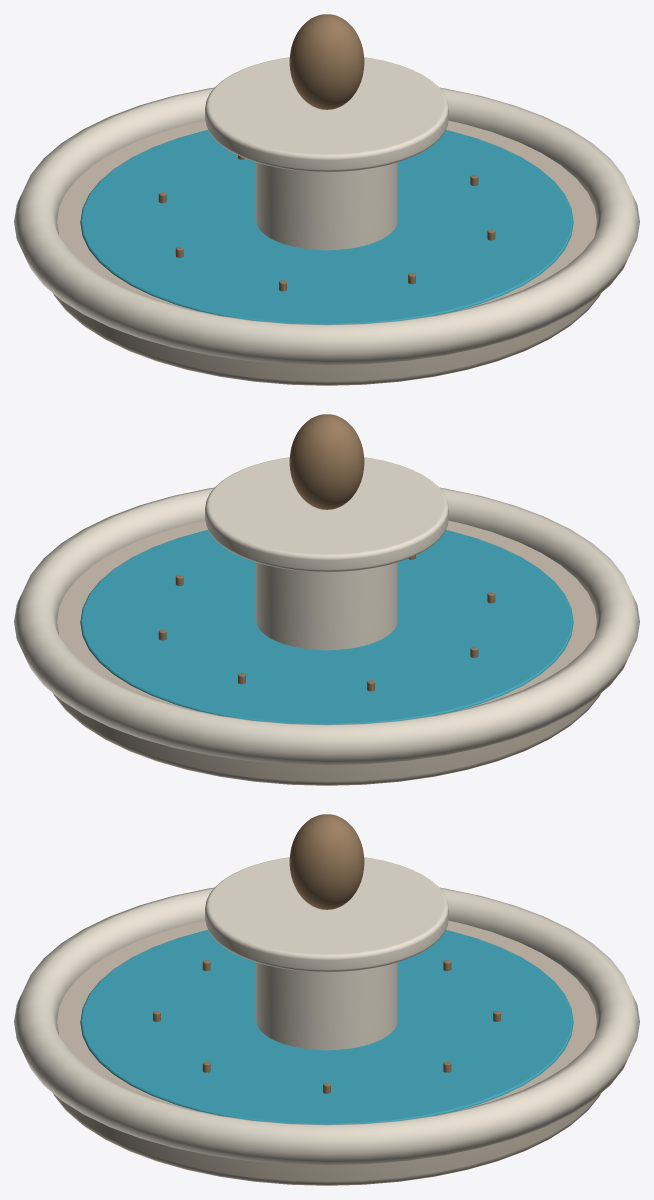
3 renders of one model, top to bottom at view 1: azimuth 30°, elevation 25°; view 2: azimuth 150°, elevation 25°; view 3: azimuth 270°, elevation 25°, orthographic.
Visible parts, largest first — view 1: LOD0_FOUNTAIN_CENTRAL_Water, LOD0_FOUNTAIN_CENTRAL_SeatRing, LOD0_FOUNTAIN_CENTRAL_UpperBowl, LOD0_FOUNTAIN_CENTRAL_Basin, LOD0_FOUNTAIN_CENTRAL_Pedestal, LOD0_FOUNTAIN_CENTRAL_Finial; view 2: LOD0_FOUNTAIN_CENTRAL_Water, LOD0_FOUNTAIN_CENTRAL_SeatRing, LOD0_FOUNTAIN_CENTRAL_UpperBowl, LOD0_FOUNTAIN_CENTRAL_Basin, LOD0_FOUNTAIN_CENTRAL_Pedestal, LOD0_FOUNTAIN_CENTRAL_Finial; view 3: LOD0_FOUNTAIN_CENTRAL_Water, LOD0_FOUNTAIN_CENTRAL_SeatRing, LOD0_FOUNTAIN_CENTRAL_UpperBowl, LOD0_FOUNTAIN_CENTRAL_Basin, LOD0_FOUNTAIN_CENTRAL_Pedestal, LOD0_FOUNTAIN_CENTRAL_Finial.
Boxes of the visible parts, x1,y1,x2,y2 form: LOD0_FOUNTAIN_CENTRAL_Water: (80, 130, 573, 324); LOD0_FOUNTAIN_CENTRAL_SeatRing: (14, 87, 639, 365); LOD0_FOUNTAIN_CENTRAL_UpperBowl: (205, 57, 448, 171); LOD0_FOUNTAIN_CENTRAL_Basin: (53, 120, 600, 385); LOD0_FOUNTAIN_CENTRAL_Pedestal: (256, 162, 397, 250); LOD0_FOUNTAIN_CENTRAL_Finial: (289, 14, 364, 109); LOD0_FOUNTAIN_CENTRAL_Water: (80, 530, 573, 724); LOD0_FOUNTAIN_CENTRAL_SeatRing: (14, 487, 639, 765); LOD0_FOUNTAIN_CENTRAL_UpperBowl: (205, 457, 448, 571); LOD0_FOUNTAIN_CENTRAL_Basin: (53, 520, 600, 785); LOD0_FOUNTAIN_CENTRAL_Pedestal: (256, 562, 397, 650); LOD0_FOUNTAIN_CENTRAL_Finial: (289, 414, 364, 509); LOD0_FOUNTAIN_CENTRAL_Water: (80, 930, 573, 1124); LOD0_FOUNTAIN_CENTRAL_SeatRing: (14, 887, 639, 1165); LOD0_FOUNTAIN_CENTRAL_UpperBowl: (205, 857, 448, 971); LOD0_FOUNTAIN_CENTRAL_Basin: (53, 920, 600, 1185); LOD0_FOUNTAIN_CENTRAL_Pedestal: (256, 962, 397, 1050); LOD0_FOUNTAIN_CENTRAL_Finial: (289, 814, 364, 909).
Size of what is drawn, in the model's own units: 11.04 by 4.9 by 11.04.
